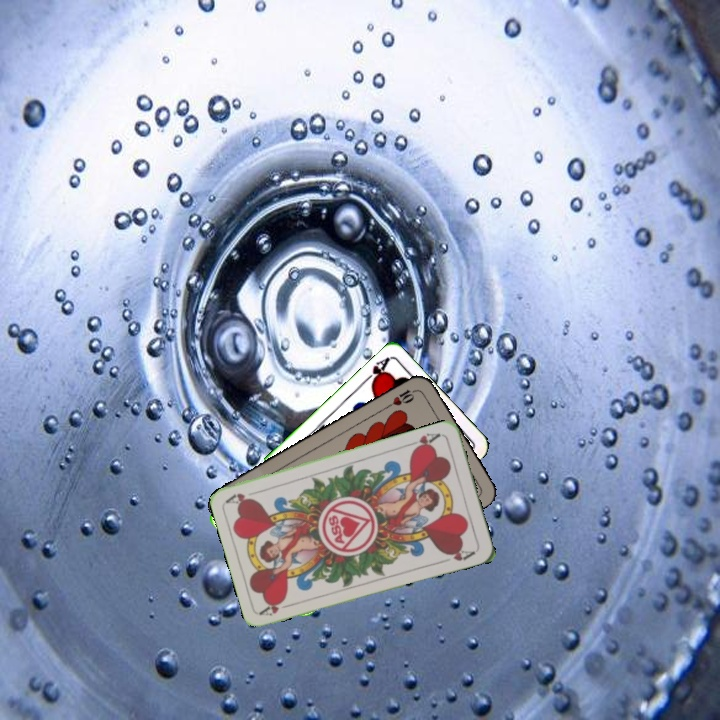H10: (383, 385, 421, 410)
HA: (358, 354, 392, 389), (404, 429, 443, 454), (257, 597, 297, 618)
